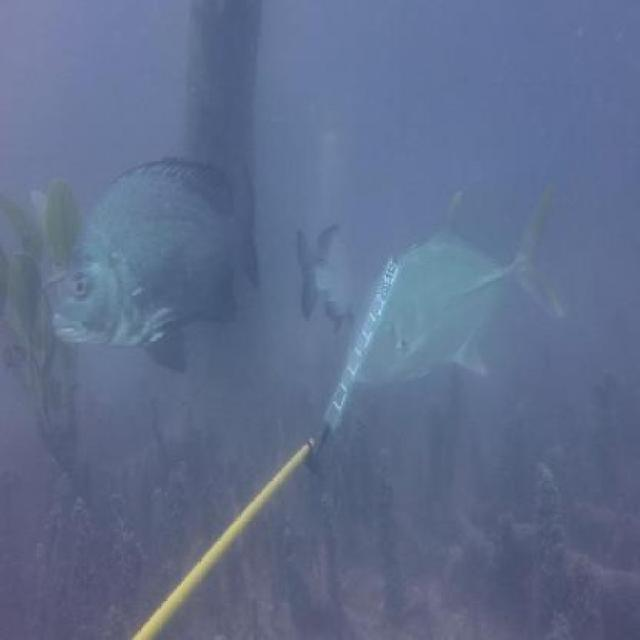Caranx: (344, 178, 564, 388)
acanthopagrus_palmaris: (50, 157, 262, 380), (294, 218, 360, 339)
